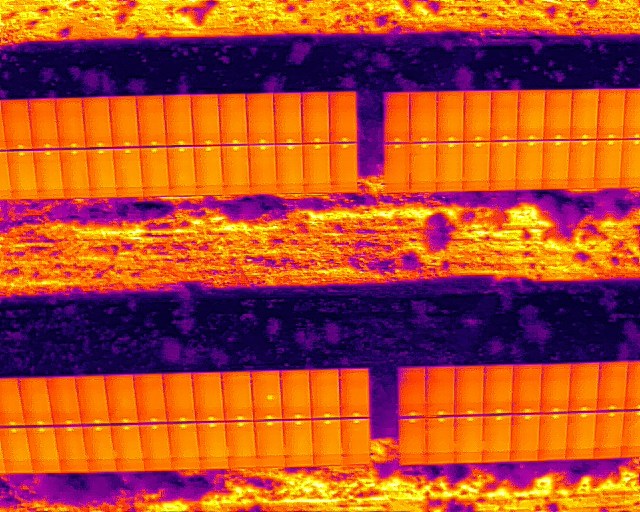photovoltaic_panels: (2, 366, 374, 474), (3, 90, 357, 201), (381, 87, 638, 194), (394, 358, 636, 466)
single_spot: (249, 368, 283, 419)
